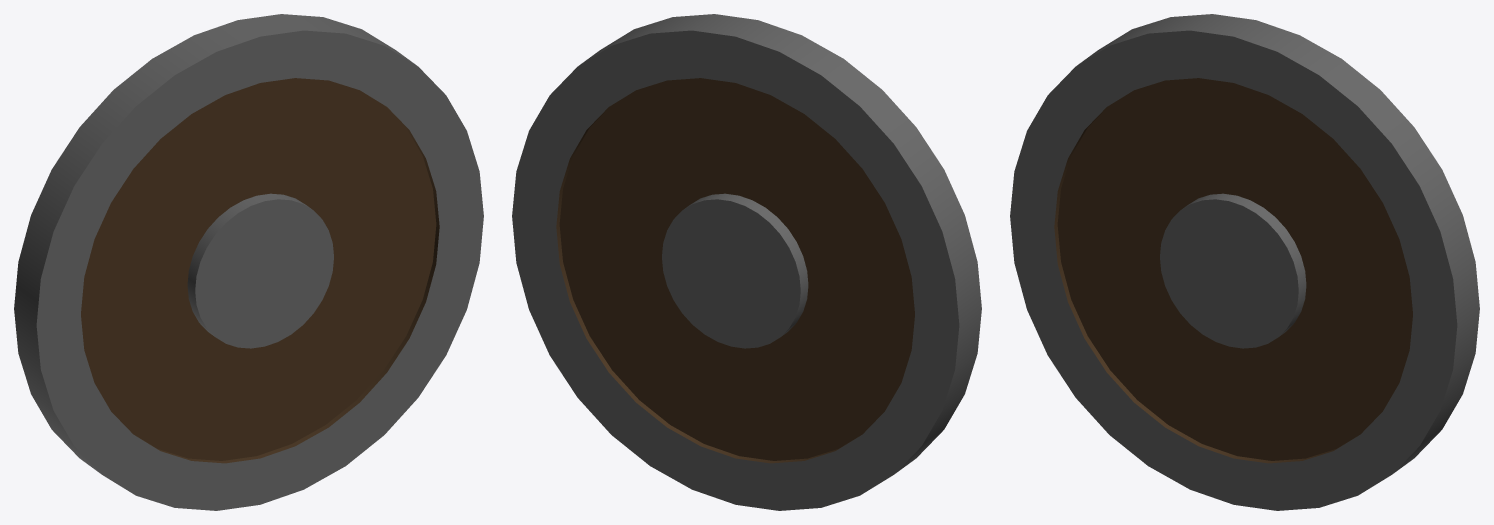
The model's file is escudo.fbx.
The picture shows the model from 3 angles, left to right: view 1: azimuth 30°, elevation 25°; view 2: azimuth 150°, elevation 25°; view 3: azimuth 330°, elevation 25°; orthographic projection.
Parts seen in each view (by area): view 1: Círculo; view 2: Círculo; view 3: Círculo.
Boxes of the visible parts, box(x1,y1,x2,y2) form: Círculo: box(14, 14, 483, 510); Círculo: box(512, 14, 981, 510); Círculo: box(1010, 14, 1479, 510).
Size of the model in its own units: 50 by 50 by 6.06.
